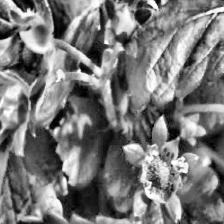Blossom Blight: (139, 145, 190, 202)
